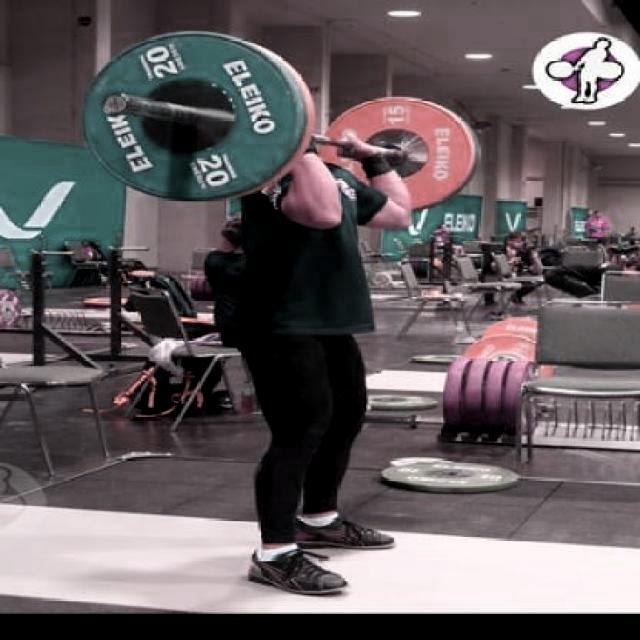barbell: (75, 27, 306, 205)
